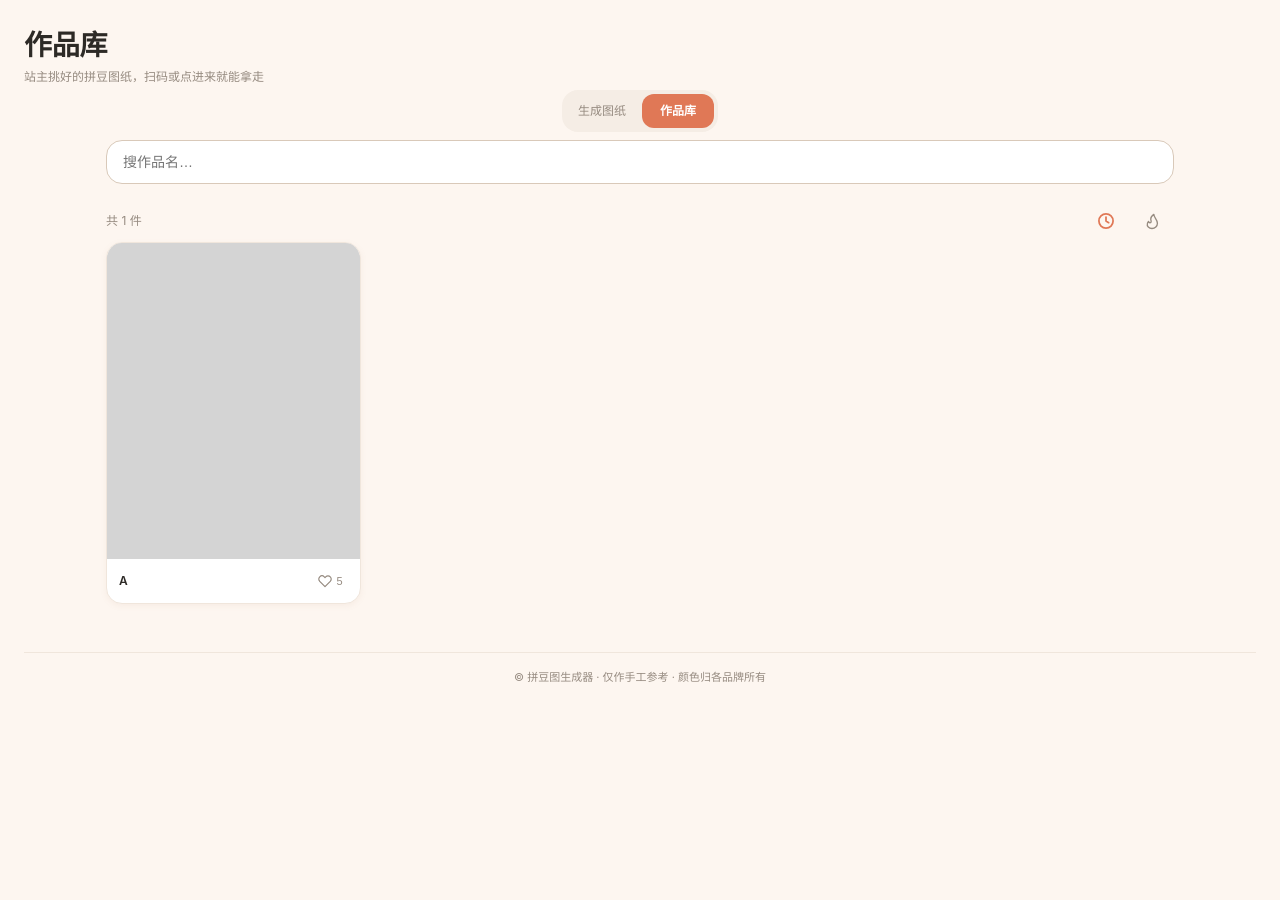
Test: 点赞按钮 › 点赞失败时回滚数字并提示
Expected: the text "A" is shown, [119,573,128,588]
Click the button named "5 次点赞". click: click(330, 581)
box: [308,559,352,603]
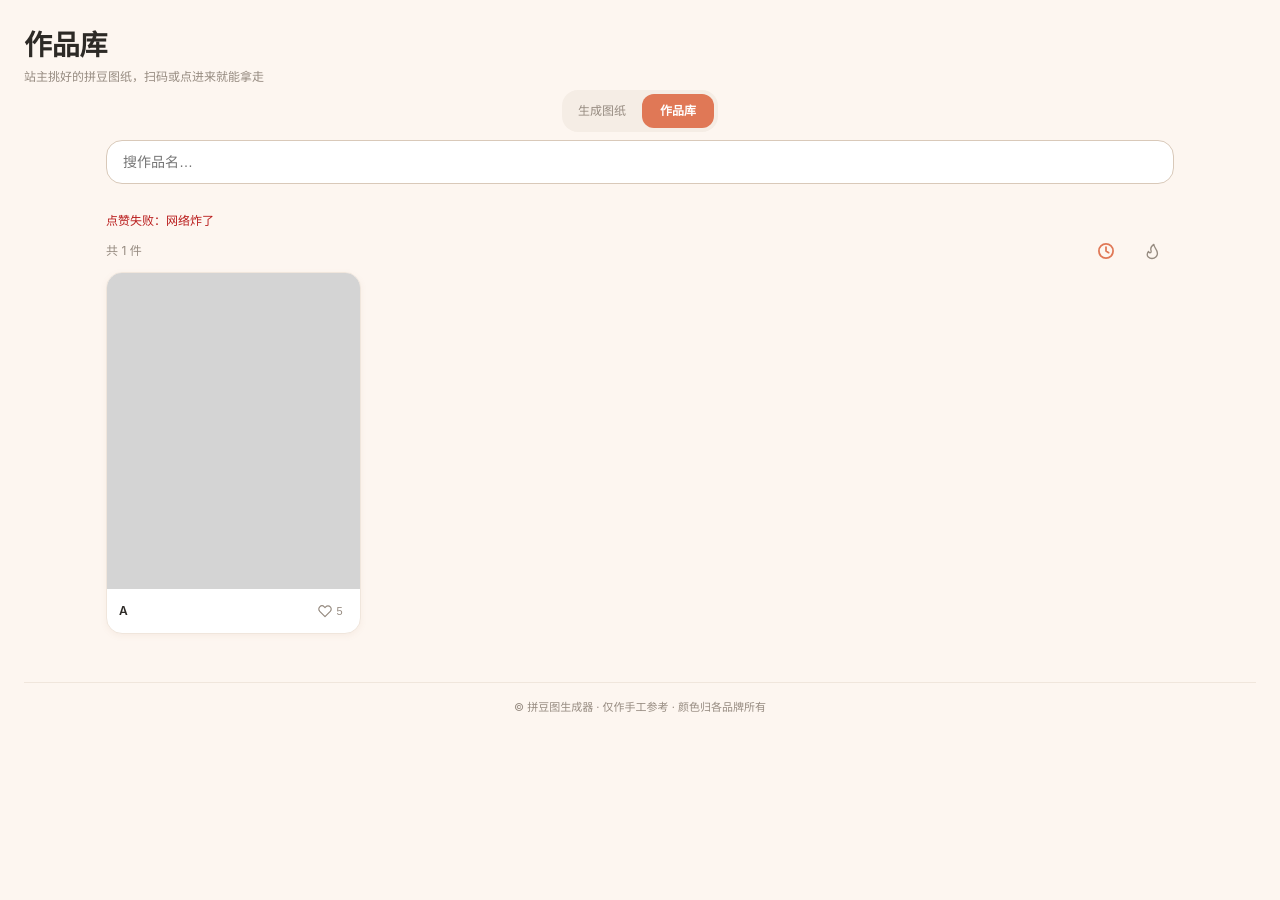
Expected: the button named "5 次点赞" is enabled, [308,589,352,633]
Result: the text "点赞失败：网络炸了" is shown at [106,213,214,228]
